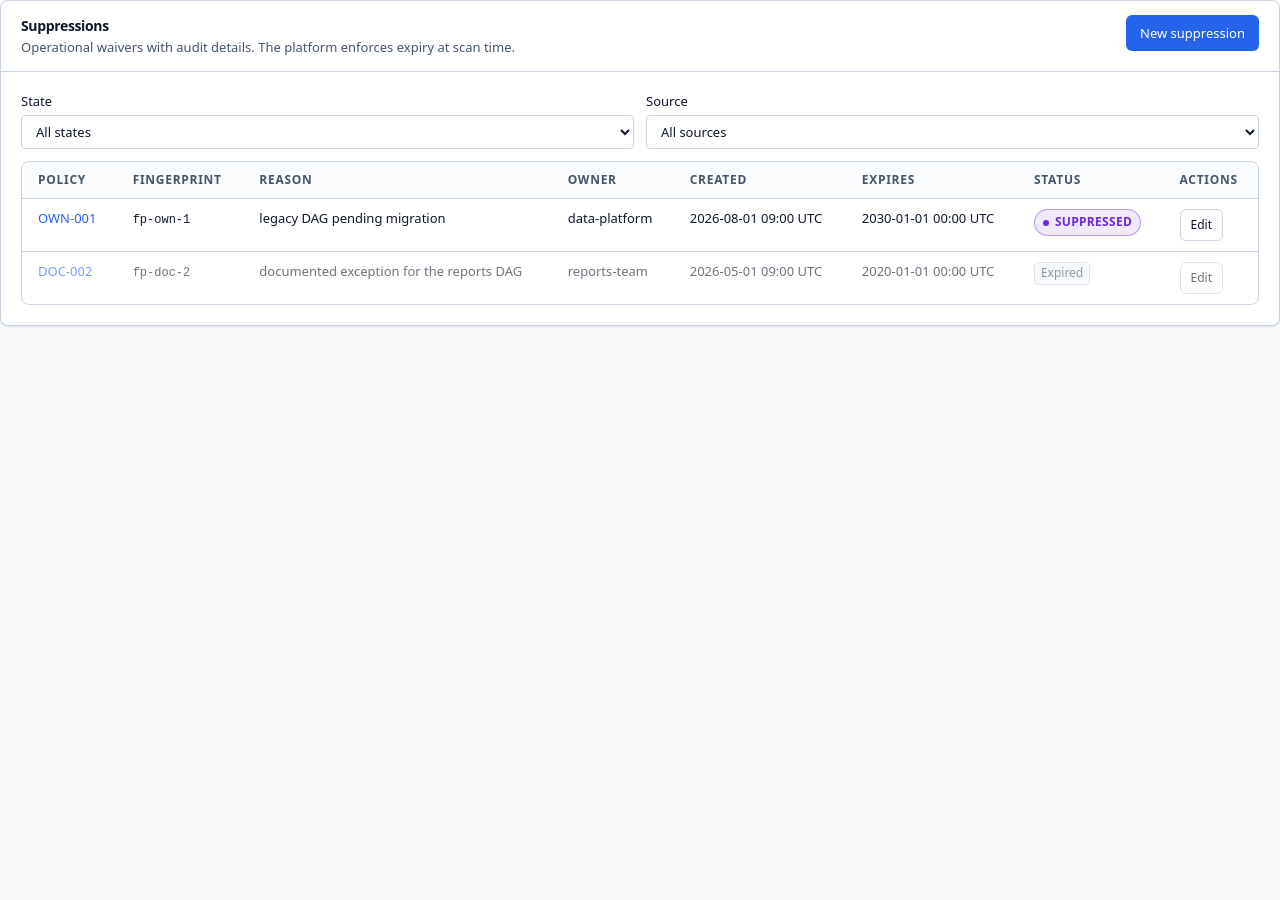
Test: SuppressionsPage › explains that an expired suppression does not waive a current finding
The image size is (1280, 900).
Click the button with aria-label "Edit suppression sup-2" at (1201, 278), box [1180,262,1223,294]
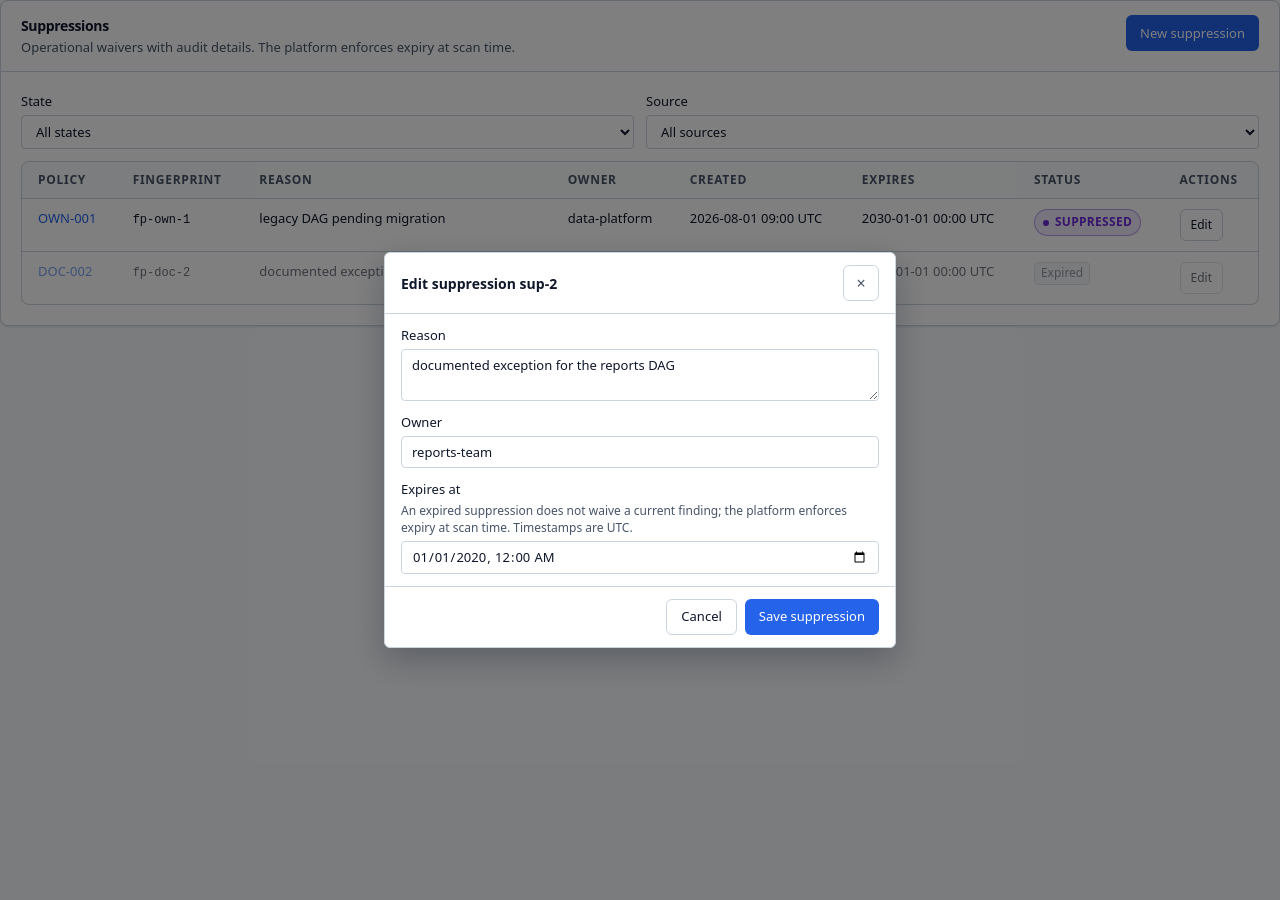
Now the text "does not waive a current finding" is shown, box [401,502,847,536]
